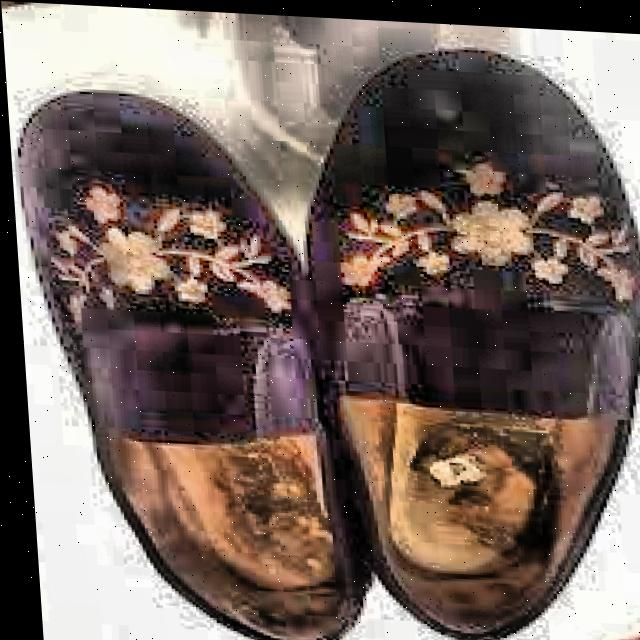shoes: (1, 15, 640, 640)
